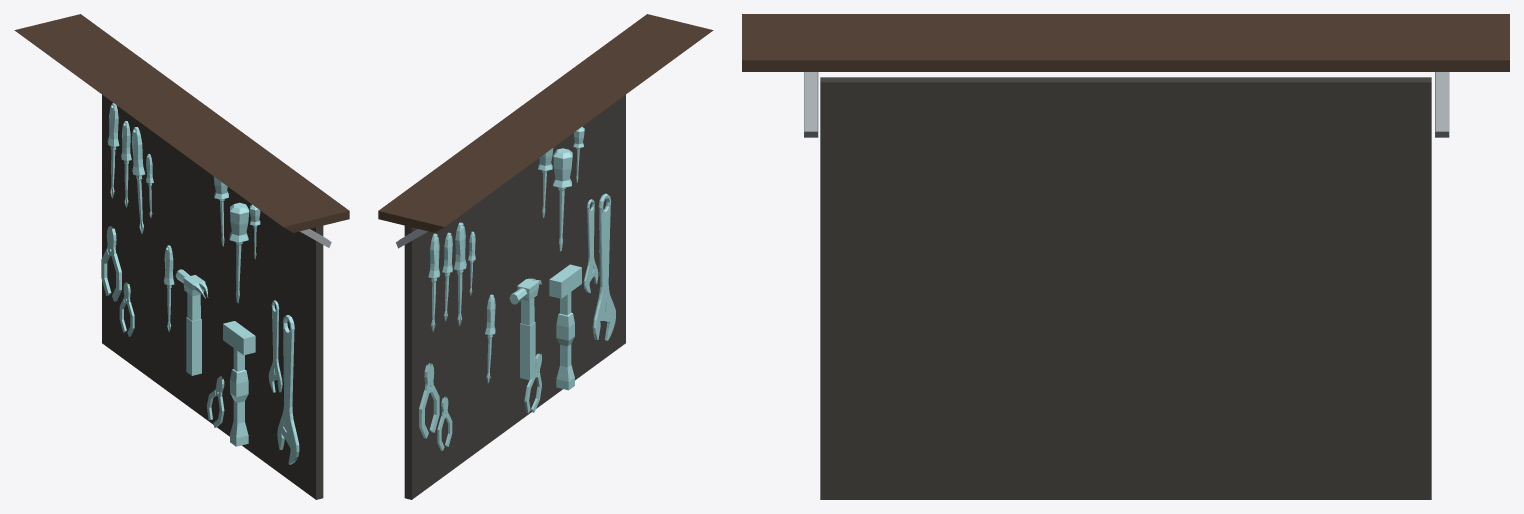
Rendered from QuadrodeF.fbx.
The picture shows the model from 3 angles, left to right: view 1: azimuth 30°, elevation 25°; view 2: azimuth 150°, elevation 25°; view 3: azimuth 270°, elevation 25°; orthographic projection. The views are drawn at different scales.
Visible parts, largest first — view 1: QuadrodeFerramenta, BasePCA.007, Cube.004, ChaveIn, Martelo, ChaveA, alicate.001, ChaveB.002, ChaveIn.001, ChaveB, ChaveB.004, ChaveB.001 (+3 smaller); view 2: QuadrodeFerramenta, BasePCA.007, Cube.004, ChaveIn, Martelo, ChaveA, alicate.001, ChaveIn.001, ChaveB.002, ChaveB, ChaveB.001, alicate.002 (+3 smaller); view 3: QuadrodeFerramenta, BasePCA.007.
Part boxes in pixels (<box>): QuadrodeFerramenta: <box>102,95,323,499</box>; BasePCA.007: <box>14,14,349,247</box>; Cube.004: <box>223,321,255,446</box>; ChaveIn: <box>277,315,299,464</box>; Martelo: <box>175,269,208,375</box>; ChaveA: <box>229,202,249,303</box>; alicate.001: <box>101,226,121,301</box>; ChaveB.002: <box>131,127,145,233</box>; ChaveIn.001: <box>268,300,282,392</box>; ChaveB: <box>107,103,119,198</box>; ChaveB.004: <box>121,121,131,207</box>; ChaveB.001: <box>163,245,174,331</box>; QuadrodeFerramenta: <box>404,95,625,499</box>; BasePCA.007: <box>378,14,713,248</box>; Cube.004: <box>549,264,581,390</box>; ChaveIn: <box>592,193,615,340</box>; Martelo: <box>509,278,541,380</box>; ChaveA: <box>553,148,572,251</box>; alicate.001: <box>419,363,439,438</box>; ChaveIn.001: <box>583,199,598,293</box>; ChaveB.002: <box>454,222,466,326</box>; ChaveB: <box>428,233,440,331</box>; ChaveB.001: <box>485,294,495,383</box>; alicate.002: <box>524,353,541,413</box>; QuadrodeFerramenta: <box>820,77,1431,499</box>; BasePCA.007: <box>742,14,1509,137</box>.
Size of the model in its own units: 28.74 by 120 by 191.
